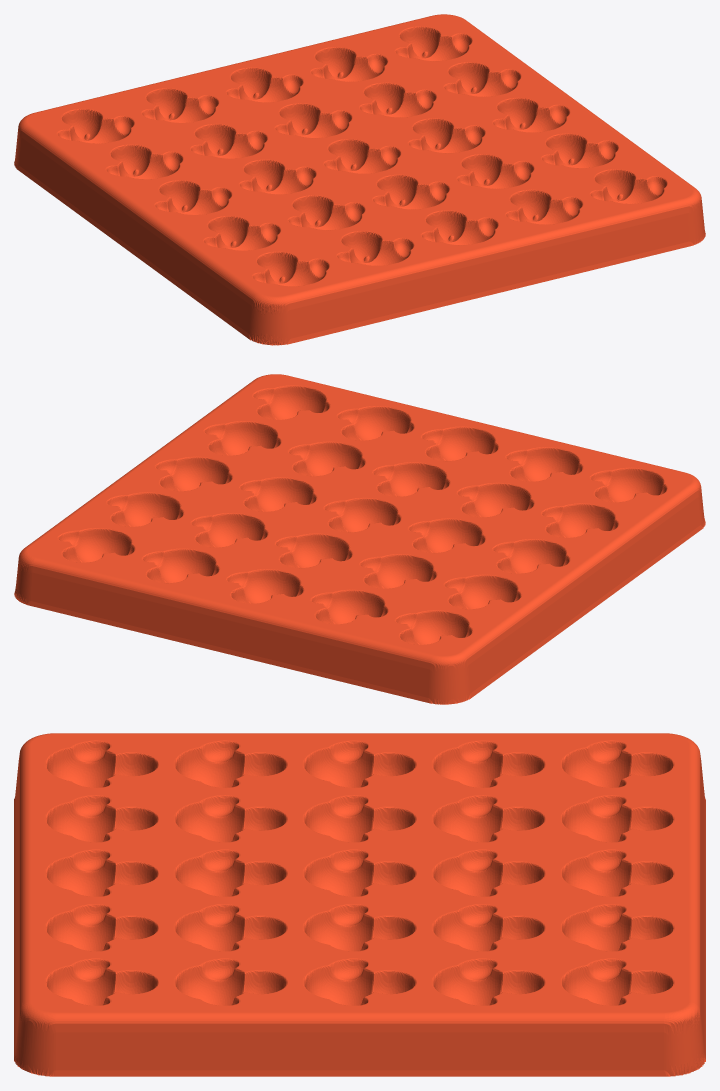
File: mold.glb
3 views of the same model, one above another, from view 1: azimuth 30°, elevation 25°; view 2: azimuth 150°, elevation 25°; view 3: azimuth 270°, elevation 25° (orthographic). The views are drawn at different scales.
Parts seen in each view (by area): view 1: geometry_0; view 2: geometry_0; view 3: geometry_0.
Boxes of the visible parts, <box> form: geometry_0: <box>14,14,705,345</box>; geometry_0: <box>14,374,705,704</box>; geometry_0: <box>14,733,705,1076</box>.
Bounding box in the file's own units: 0.148 × 0.0135 × 0.148.
